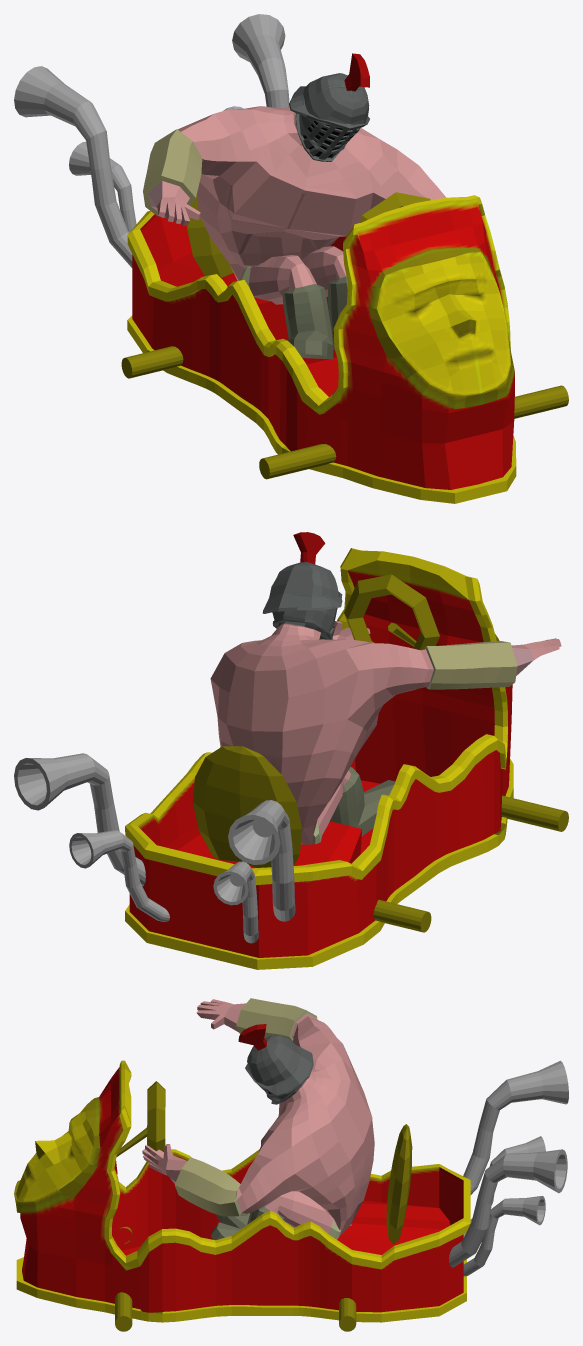
Rendered from gladiVacile_000576.obj.
3 views of the same model, one above another, from view 1: azimuth 30°, elevation 25°; view 2: azimuth 150°, elevation 25°; view 3: azimuth 270°, elevation 25° (orthographic). The views are drawn at different scales.
Visible parts, largest first — view 1: GladiChasis_GladiChasisH, Gadiador_Gladiador_H.001, GladiTubos_GladiTubosH, GladiVolante_GladiVolanteH; view 2: GladiChasis_GladiChasisH, Gadiador_Gladiador_H.001, GladiTubos_GladiTubosH, GladiVolante_GladiVolanteH; view 3: GladiChasis_GladiChasisH, Gadiador_Gladiador_H.001, GladiTubos_GladiTubosH, GladiVolante_GladiVolanteH.
Boxes of the visible parts, box(x1,y1,x2,y2) form: GladiChasis_GladiChasisH: box(127, 195, 516, 503); Gadiador_Gladiador_H.001: box(143, 53, 445, 359); GladiTubos_GladiTubosH: box(14, 14, 289, 267); GladiVolante_GladiVolanteH: box(121, 192, 568, 479); GladiChasis_GladiChasisH: box(125, 548, 513, 969); Gadiador_Gladiador_H.001: box(210, 532, 561, 844); GladiTubos_GladiTubosH: box(14, 753, 295, 943); GladiVolante_GladiVolanteH: box(192, 574, 568, 932); GladiChasis_GladiChasisH: box(14, 1060, 470, 1322); Gadiador_Gladiador_H.001: box(142, 998, 374, 1240); GladiTubos_GladiTubosH: box(449, 1060, 568, 1276); GladiVolante_GladiVolanteH: box(115, 1081, 412, 1331).
Bounding box in the file's own units: 6.39 × 5.68 × 10.78.
